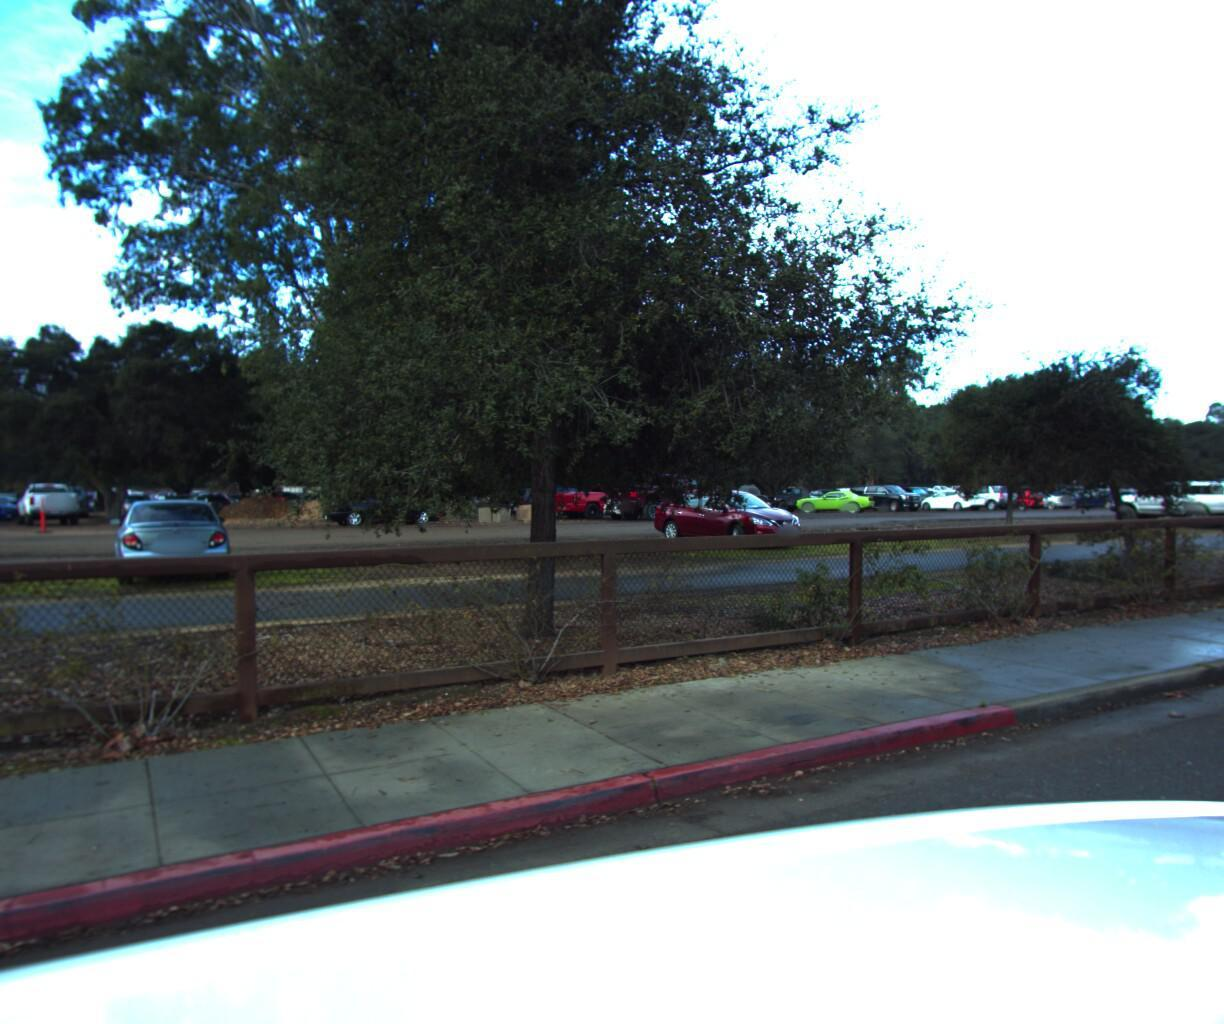other_vehicle: (1177, 309, 1224, 719)
